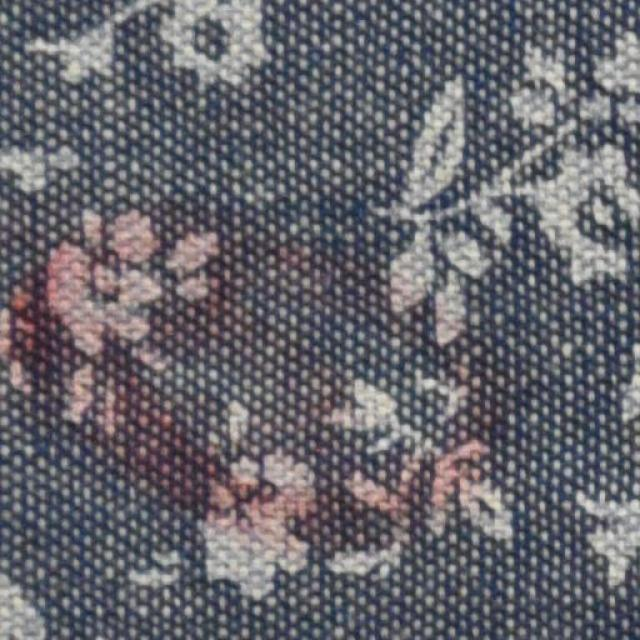Stain: (2, 210, 332, 548), (275, 238, 512, 585)
